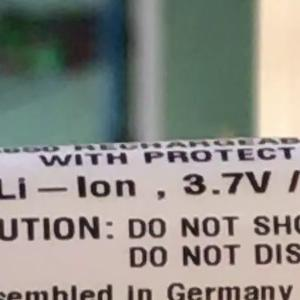keyword: (173, 161, 281, 205)
